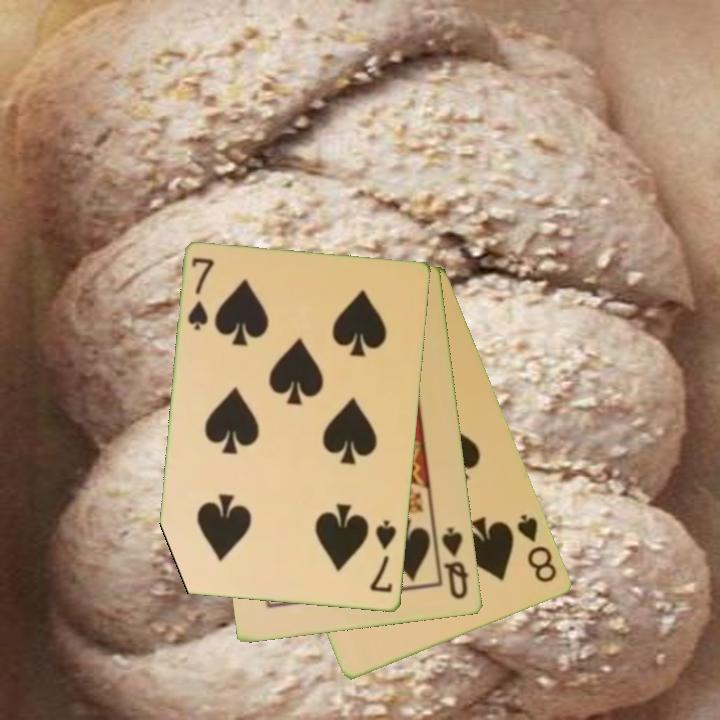7s: (367, 517, 400, 596), (185, 254, 217, 334)
8s: (514, 510, 560, 586)
Qs: (438, 524, 472, 603)
